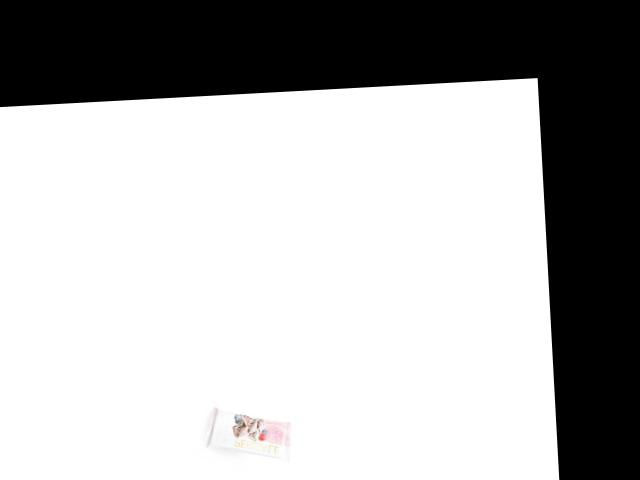chocolate: (206, 401, 292, 466)
